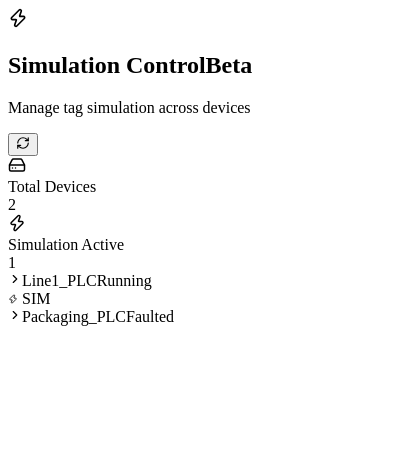
SimulationView › lists simulated tags for a device and Enable All POSTs {enabled: true}
The width and height of the screenshot is (399, 460).
Later steps or results of the test are not shown.
Expected: the heading "Simulation Control" is shown, [8, 52, 252, 78]
Click the text "Line1_PLC".
click(59, 280)  # box [22, 272, 97, 289]
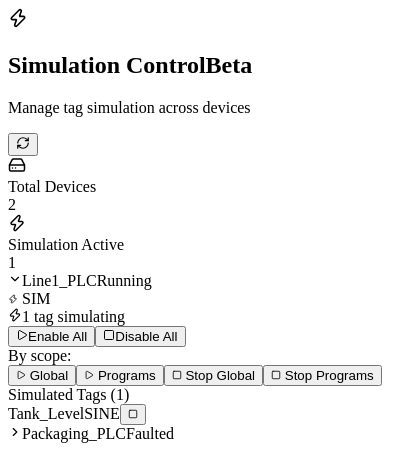
Now the text "1 tag simulating" is shown, box [22, 308, 125, 325]
Now the text "Tank_Level" is shown, box [8, 405, 84, 422]
Now the text "SINE" is shown, box [84, 405, 120, 422]
